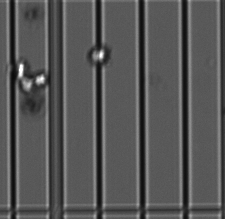Dead Cell: (23, 96, 43, 115), (26, 8, 40, 21)
Living Cell: (89, 47, 111, 64), (19, 76, 34, 93), (33, 72, 48, 88), (16, 59, 26, 79)
